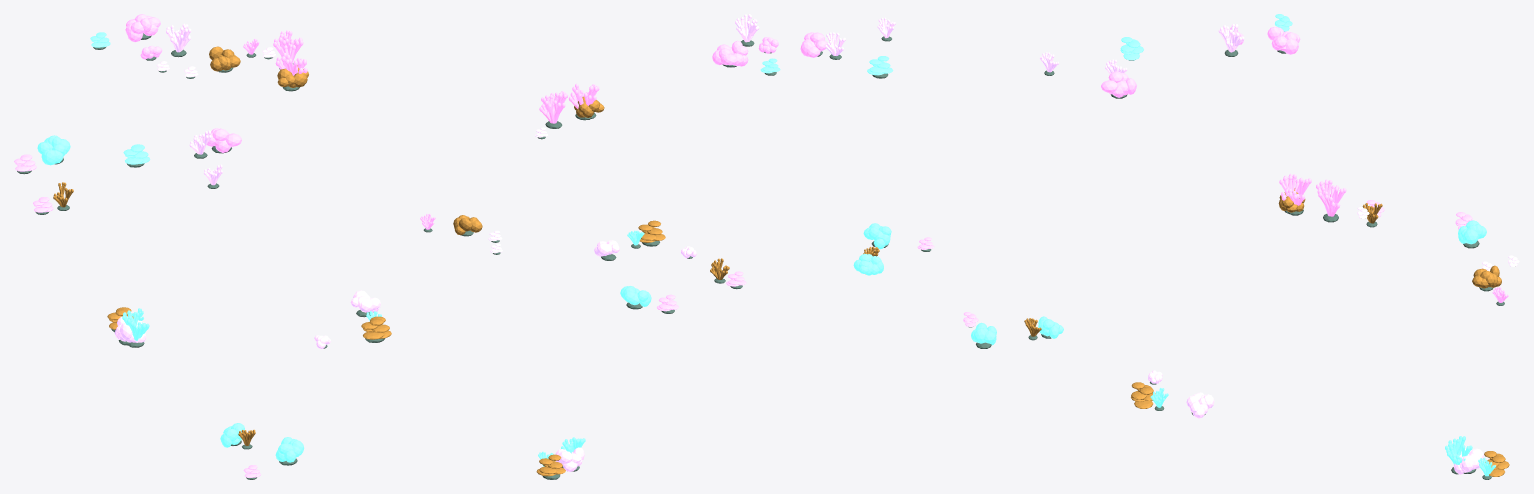
Rendered from coral_00.glb.
3 views of the same model, side by side, from view 1: azimuth 30°, elevation 25°; view 2: azimuth 150°, elevation 25°; view 3: azimuth 270°, elevation 25° (orthographic). The views are drawn at different scales.
Parts seen in each view (by area): view 1: coral_00; view 2: coral_00; view 3: coral_00.
Part boxes in pixels (box(x1,y1,x2,y2)): coral_00: box(14, 14, 391, 479); coral_00: box(420, 14, 934, 479); coral_00: box(963, 14, 1519, 479).
Size of the model in its own units: 48.34 by 60.5 by 73.95.
